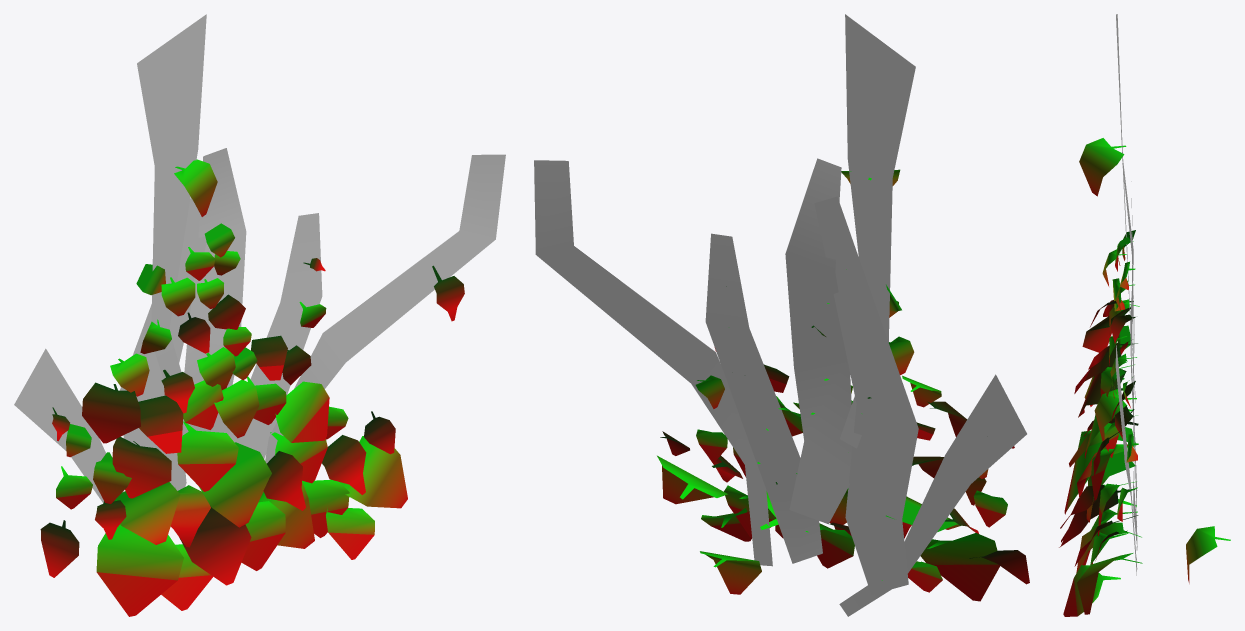
The model's file is Var7_LOD1.fbx.
The picture shows the model from 3 angles, left to right: view 1: azimuth 30°, elevation 25°; view 2: azimuth 150°, elevation 25°; view 3: azimuth 270°, elevation 25°; orthographic projection. The views are drawn at different scales.
Parts seen in each view (by area): view 1: _c125_Var7_LOD1; view 2: _c125_Var7_LOD1; view 3: _c125_Var7_LOD1.
Boxes of the visible parts, left/top/right/bottom form: _c125_Var7_LOD1: left=14, top=14, right=505, bottom=616; _c125_Var7_LOD1: left=534, top=14, right=1029, bottom=616; _c125_Var7_LOD1: left=1059, top=14, right=1230, bottom=616.
Size of the model in its own units: 47.86 by 53.8 by 15.14.
